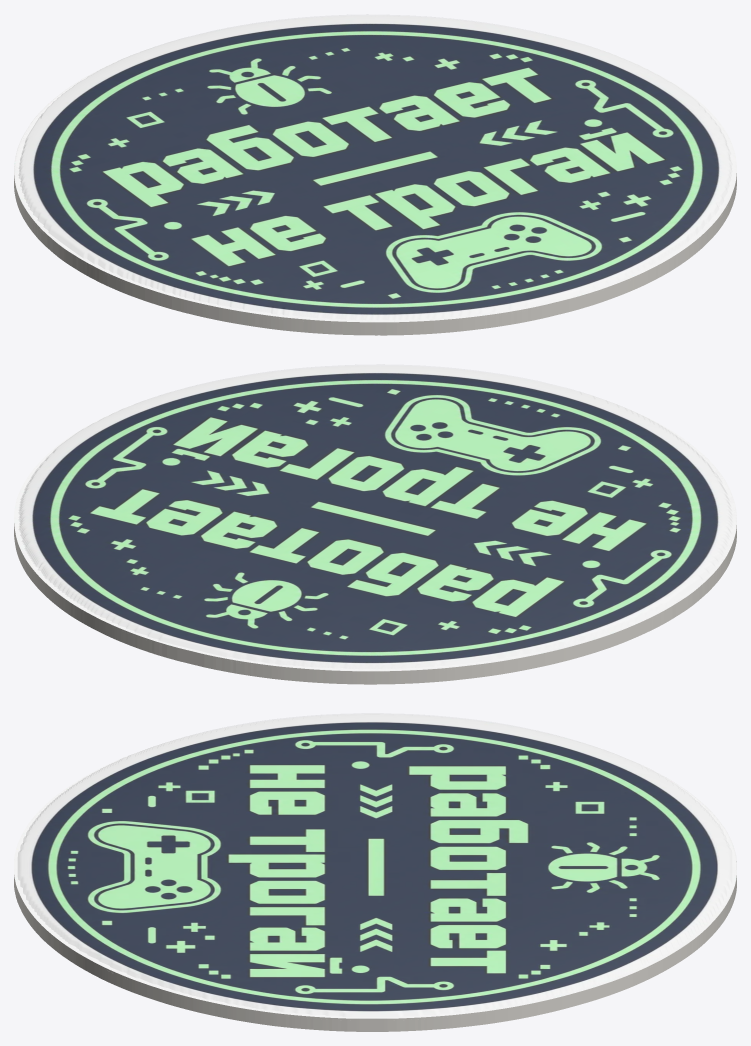
File: glow.glb
3 renders of one model, top to bottom at view 1: azimuth 30°, elevation 25°; view 2: azimuth 150°, elevation 25°; view 3: azimuth 270°, elevation 25°, orthographic.
Visible parts, largest first — view 1: sticker_base, resin_dome; view 2: sticker_base, resin_dome; view 3: sticker_base, resin_dome.
Part boxes in pixels (left/top/right/bottom): sticker_base: left=14, top=15, right=736, bottom=335; resin_dome: left=19, top=14, right=732, bottom=320; sticker_base: left=14, top=365, right=736, bottom=684; resin_dome: left=19, top=364, right=732, bottom=668; sticker_base: left=14, top=714, right=736, bottom=1031; resin_dome: left=18, top=713, right=731, bottom=1016.
Size of the model in its own units: 0.0699 by 0.0044 by 0.0701.
3 materials, 1 textured.
